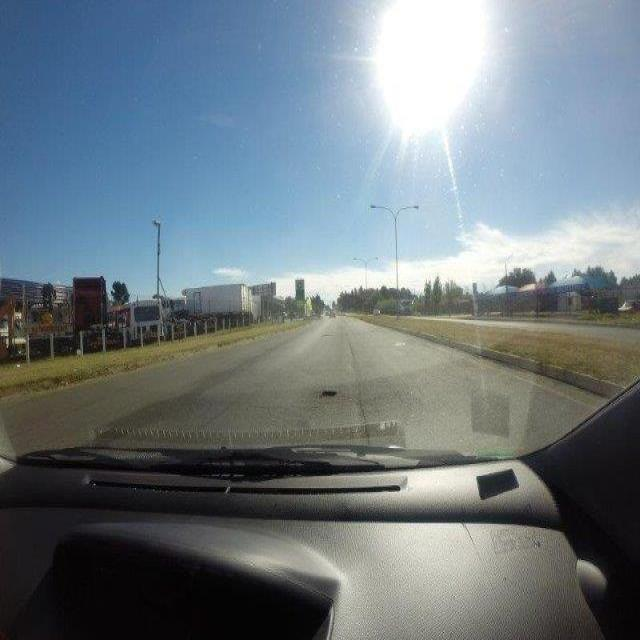lubang: (312, 386, 344, 406)
